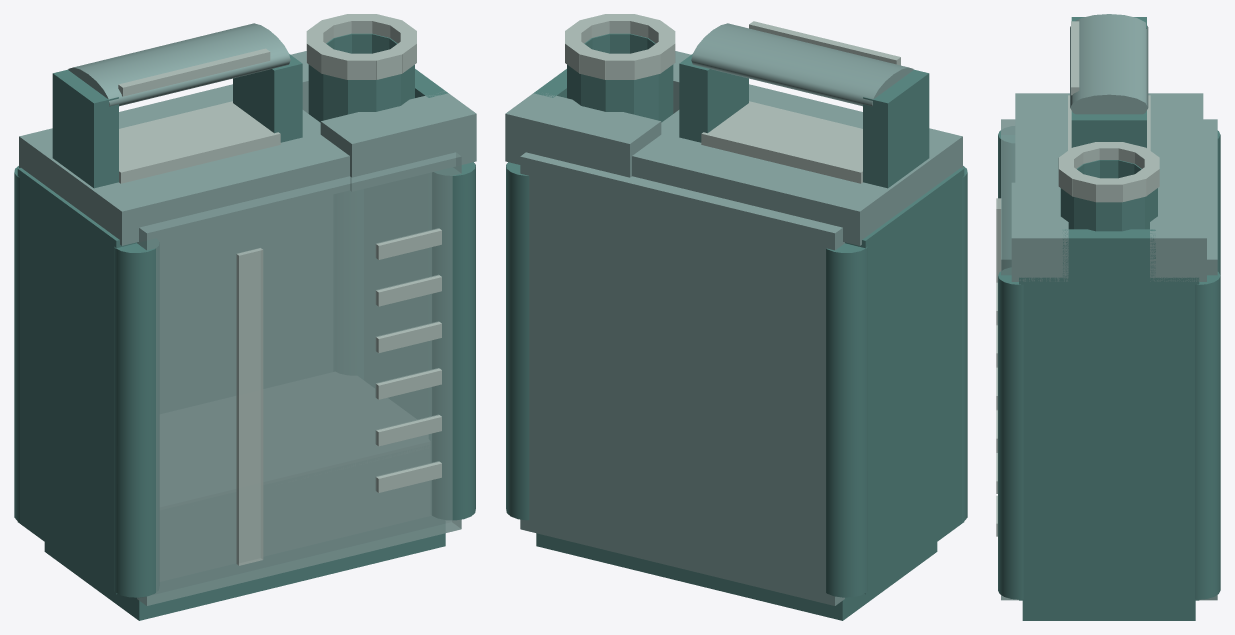
The model's file is CMU3DReagentJugFill1StudyCloud.glb.
3 renders of one model, left to right at view 1: azimuth 30°, elevation 25°; view 2: azimuth 150°, elevation 25°; view 3: azimuth 270°, elevation 25°, orthographic. The views are drawn at different scales.
Visible parts, largest first — view 1: front translucent jug wall, left molded jug wall, rounded canister corner (×3), jug shoulder left deck, jug shoulder front around spout, front vertical molding, handle inner lower ledge, handle rounded bridge, handle left upright, closed molded jug floor, handle right upright, handle top glint (+13 smaller); view 2: back molded jug wall, left molded jug wall, rounded canister corner (×3), jug shoulder left deck, handle rounded bridge, jug shoulder rear around spout, handle inner lower ledge, handle left upright, closed molded jug floor, handle right upright, handle top glint, hollow pouring neck 06 (+6 smaller); view 3: right molded jug wall, rounded canister corner (×4), jug shoulder left deck, handle rounded bridge, jug shoulder front around spout, jug shoulder rear around spout, jug shoulder right around spout, closed molded jug floor, handle right upright, back molded jug wall, front translucent jug wall, hollow pouring neck 01 (+16 smaller).
Part boxes in pixels (left/top/right/bottom): front translucent jug wall: left=137, top=152, right=461, bottom=605; left molded jug wall: left=17, top=168, right=137, bottom=594; rounded canister corner (×3): left=14, top=162, right=475, bottom=597; jug shoulder left deck: left=19, top=84, right=349, bottom=245; jug shoulder front around spout: left=320, top=91, right=476, bottom=191; front vertical molding: left=236, top=248, right=263, bottom=565; handle inner lower ledge: left=119, top=101, right=280, bottom=183; handle rounded bridge: left=68, top=23, right=290, bottom=106; handle left upright: left=52, top=69, right=118, bottom=188; closed molded jug floor: left=44, top=533, right=445, bottom=620; handle right upright: left=233, top=54, right=302, bottom=142; handle top glint: left=118, top=48, right=270, bottom=96; back molded jug wall: left=520, top=152, right=844, bottom=605; left molded jug wall: left=845, top=168, right=964, bottom=594; rounded canister corner (×3): left=506, top=162, right=967, bottom=597; jug shoulder left deck: left=632, top=84, right=962, bottom=245; handle rounded bridge: left=691, top=23, right=913, bottom=106; jug shoulder rear around spout: left=505, top=93, right=661, bottom=177; handle inner lower ledge: left=701, top=101, right=862, bottom=183; handle left upright: left=863, top=69, right=929, bottom=188; closed molded jug floor: left=536, top=533, right=937, bottom=620; handle right upright: left=679, top=54, right=748, bottom=142; handle top glint: left=749, top=21, right=900, bottom=65; hollow pouring neck 06: left=634, top=74, right=658, bottom=120; right molded jug wall: left=1019, top=277, right=1199, bottom=600; rounded canister corner (×4): left=998, top=130, right=1220, bottom=599; jug shoulder left deck: left=1015, top=93, right=1203, bottom=182; handle rounded bridge: left=1070, top=14, right=1148, bottom=114; jug shoulder front around spout: left=1011, top=182, right=1068, bottom=281; jug shoulder rear around spout: left=1150, top=182, right=1206, bottom=281; jug shoulder right around spout: left=1062, top=229, right=1155, bottom=281; closed molded jug floor: left=1022, top=600, right=1195, bottom=620; handle right upright: left=1071, top=111, right=1146, bottom=147; back molded jug wall: left=1199, top=119, right=1217, bottom=600; front translucent jug wall: left=1001, top=119, right=1018, bottom=600; hollow pouring neck 01: left=1096, top=202, right=1121, bottom=231.
Bounding box in the file's own units: 0.502 × 0.688 × 0.298.
